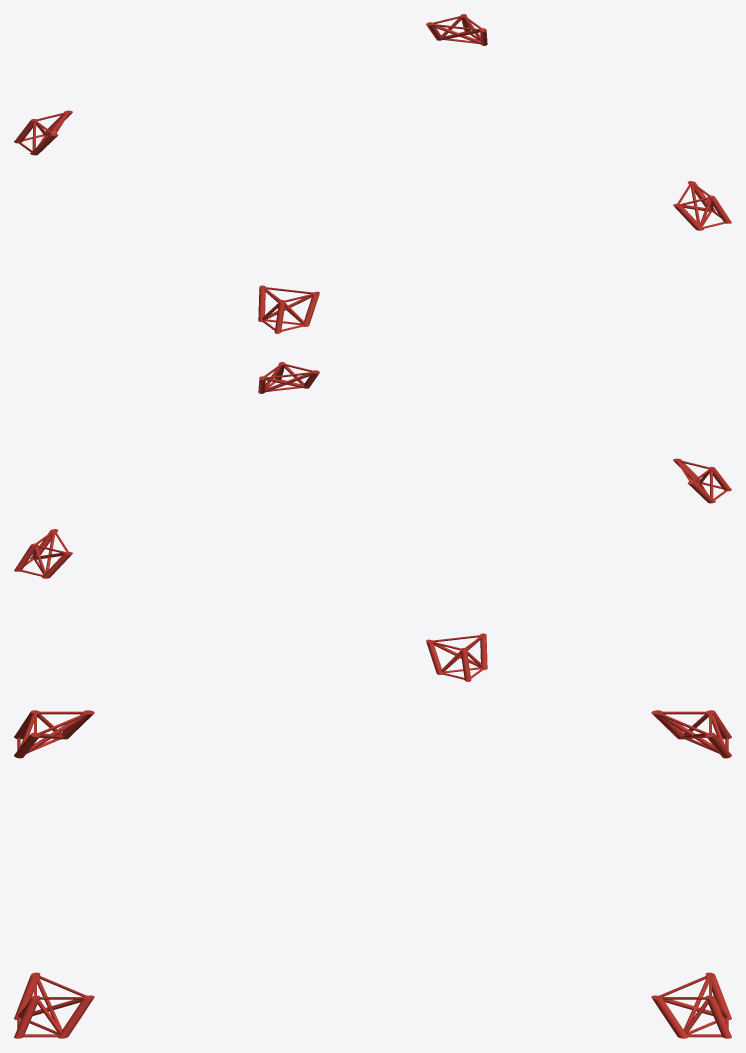
3 views of the same model, one above another, from view 1: azimuth 30°, elevation 25°; view 2: azimuth 150°, elevation 25°; view 3: azimuth 270°, elevation 25° (orthographic). The views are drawn at different scales.
Visible parts, largest first — view 1: H1a-H1b; view 2: H1a-H1b; view 3: H1a-H1b.
Part boxes in pixels (<box>): H1a-H1b: <box>14,14,731,333</box>; H1a-H1b: <box>14,362,731,681</box>; H1a-H1b: <box>14,710,731,1038</box>.
Bounding box in the file's own units: 81.14 × 4 × 81.14.
